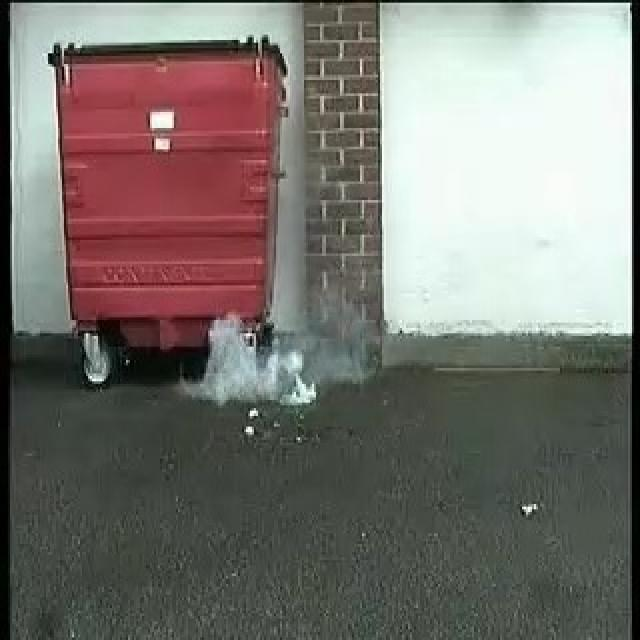smoke: (196, 314, 365, 406)
